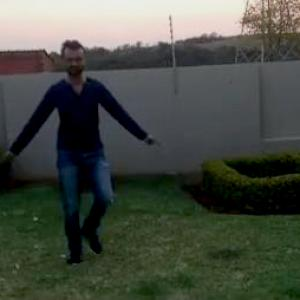land: (16, 49, 136, 224)
